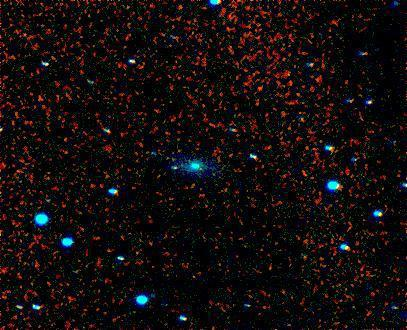star: (162, 156, 192, 186)
